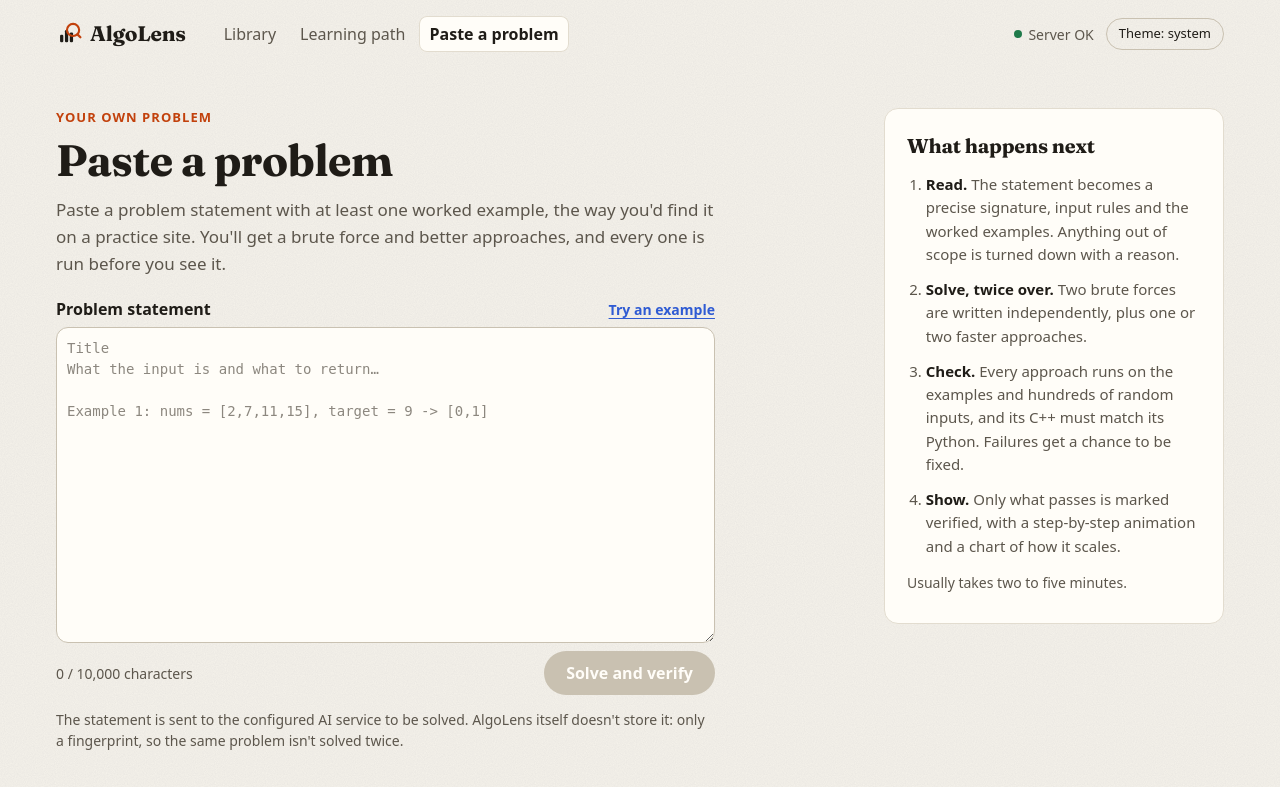
Test case: submitting a cached problem goes straight to its result
Expected: the button "Solve and verify" is disabled, [544,652,715,696]
Click the text box labelled "Problem statement" at x=385, y=486, box [56,328,715,644]
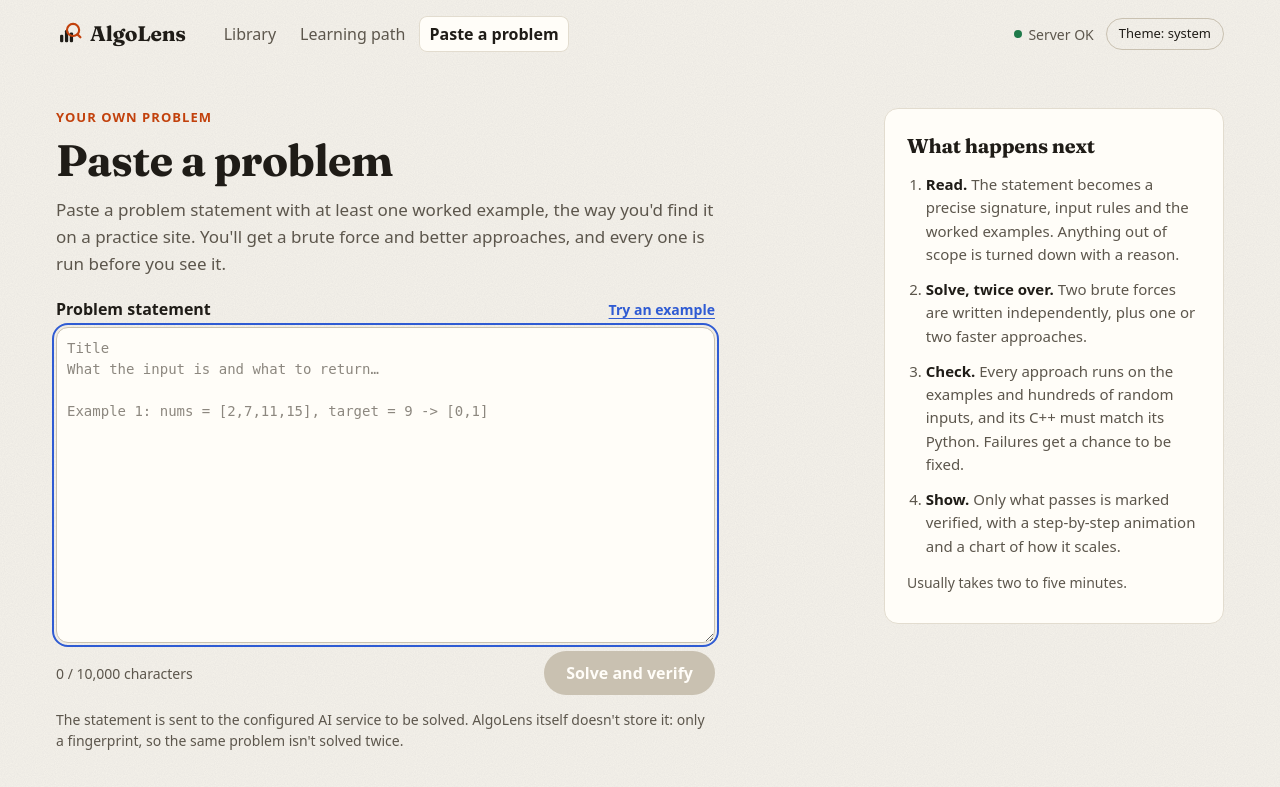
Type keys "Given an integer array nums, return the largest subarray sum. Example: [1] -> 1"
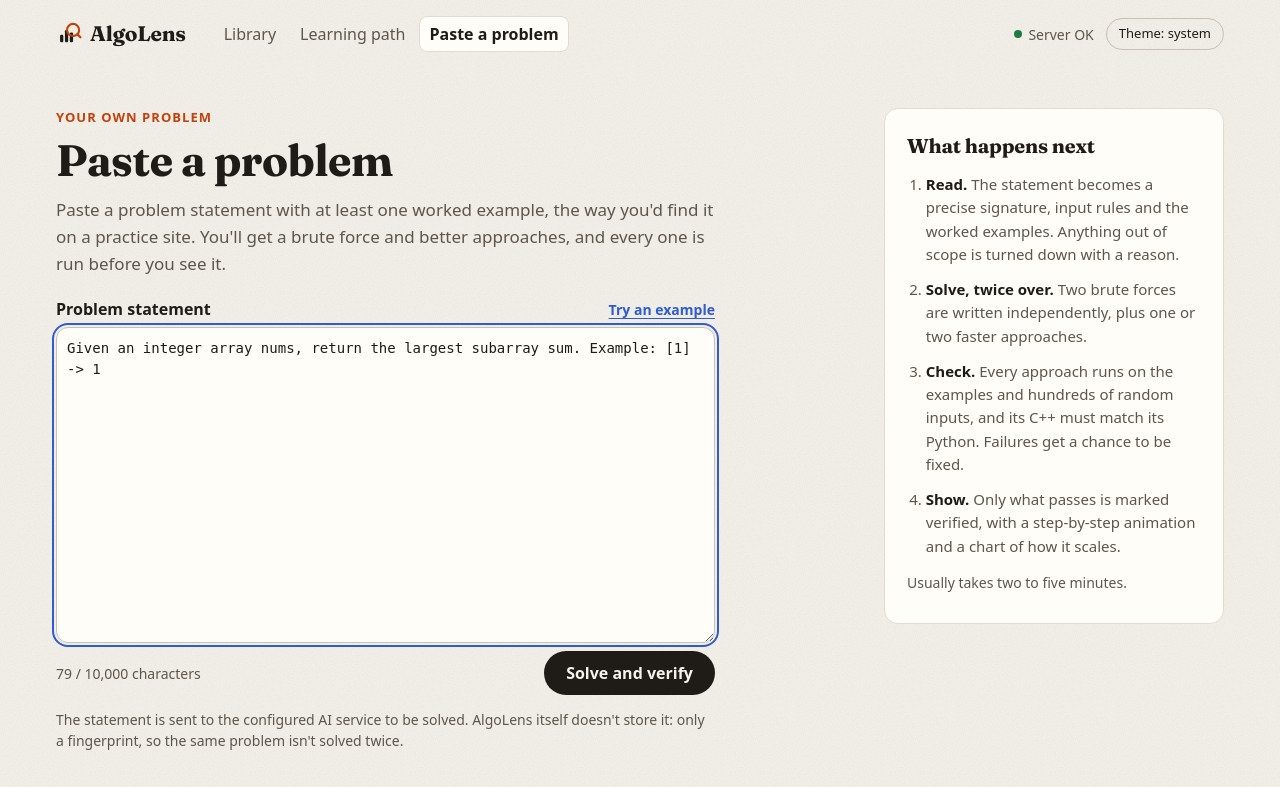
Click the button "Solve and verify" at x=630, y=674, box [544,652,715,696]
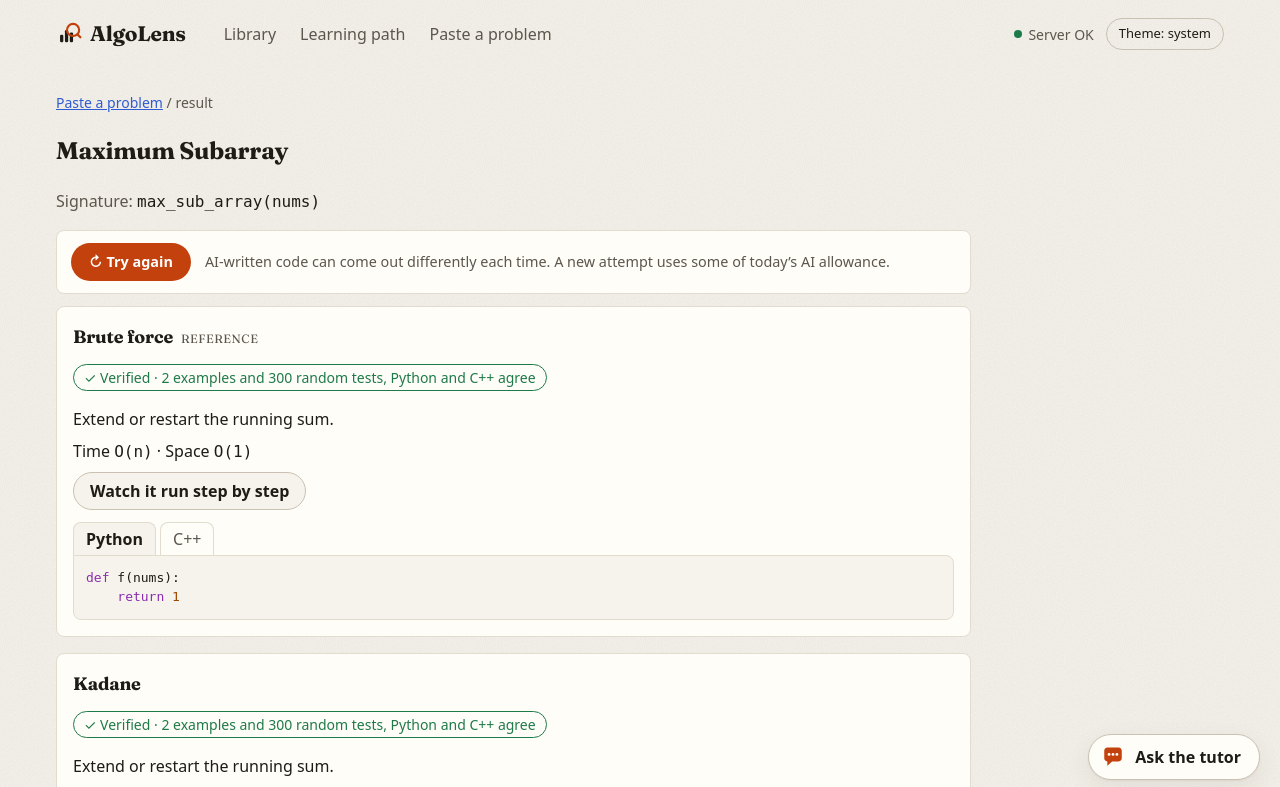
Now the heading "Maximum Subarray" is shown, box [56,136,288,165]
